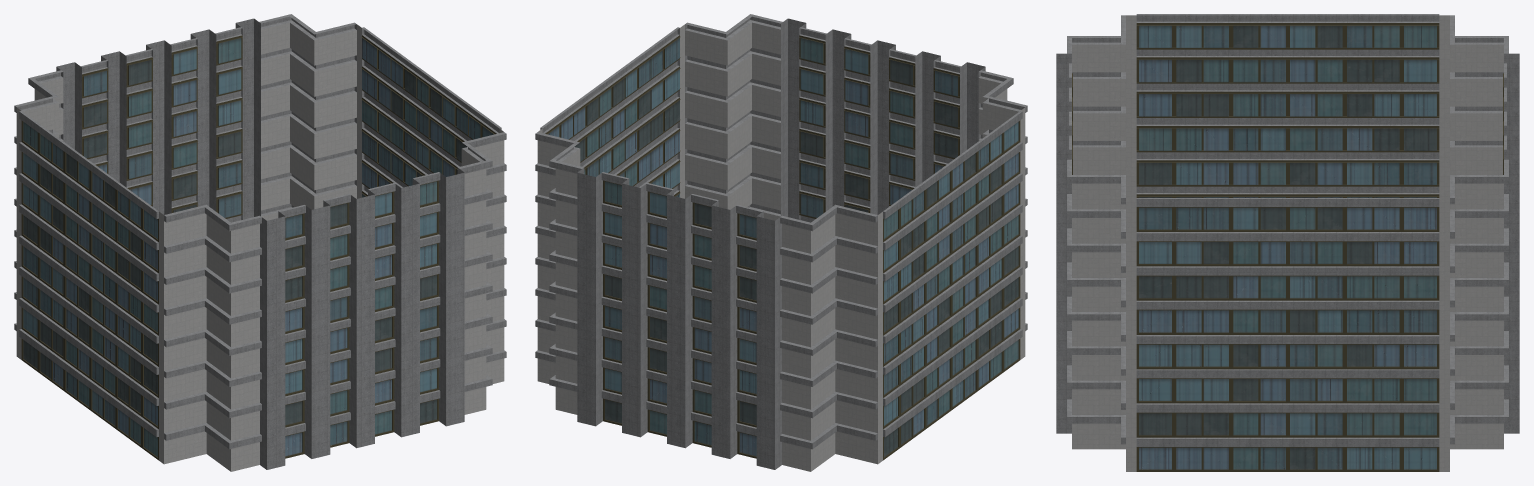
Rendered from jctBld50C_mdl.fbx.
The picture shows the model from 3 angles, left to right: view 1: azimuth 30°, elevation 25°; view 2: azimuth 150°, elevation 25°; view 3: azimuth 270°, elevation 25°; orthographic projection. The views are drawn at different scales.
Visible parts, largest first — view 1: jctBld50C_mdl_LOD0; view 2: jctBld50C_mdl_LOD0; view 3: jctBld50C_mdl_LOD0.
Part boxes in pixels (box(x1,y1,x2,y2)): jctBld50C_mdl_LOD0: box(14, 14, 506, 471); jctBld50C_mdl_LOD0: box(535, 14, 1027, 471); jctBld50C_mdl_LOD0: box(1056, 14, 1519, 471).
Size of the model in its own units: 4056 by 2800 by 4288.
